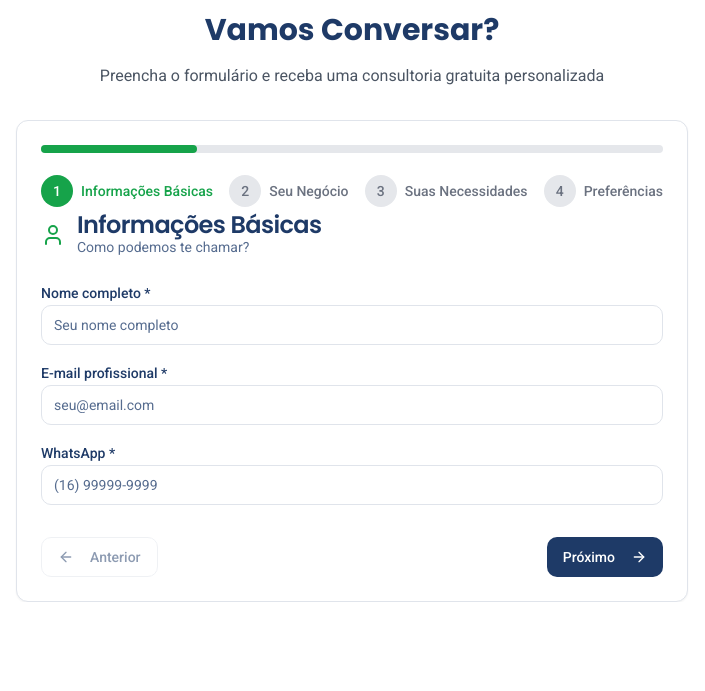
ProgressiveContactForm Component › Form Validation › Basic Information Step › validates required name field
Click the button "Próximo": point(605, 557) [547,537,663,577]
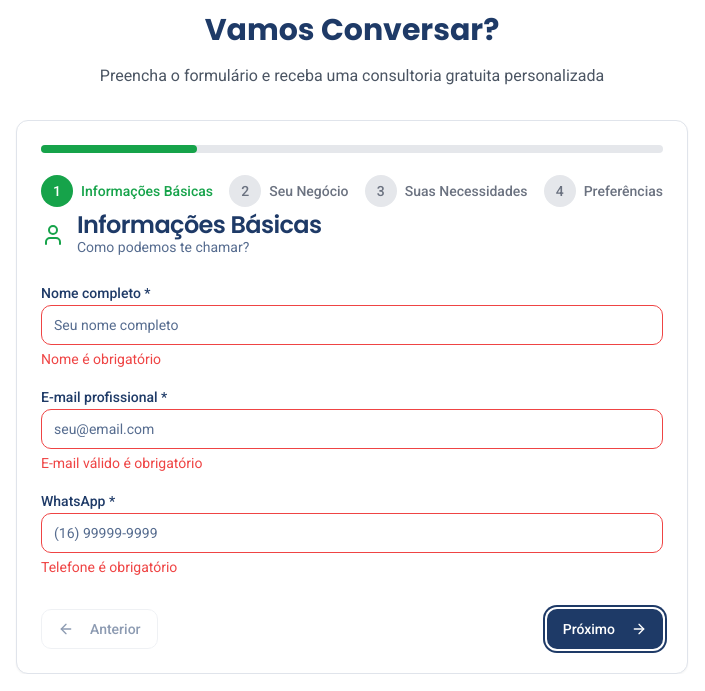
Now the text "Nome é obrigatório" is shown, box [41,351,161,367]
